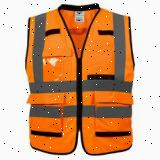Vest: (23, 1, 137, 155)
